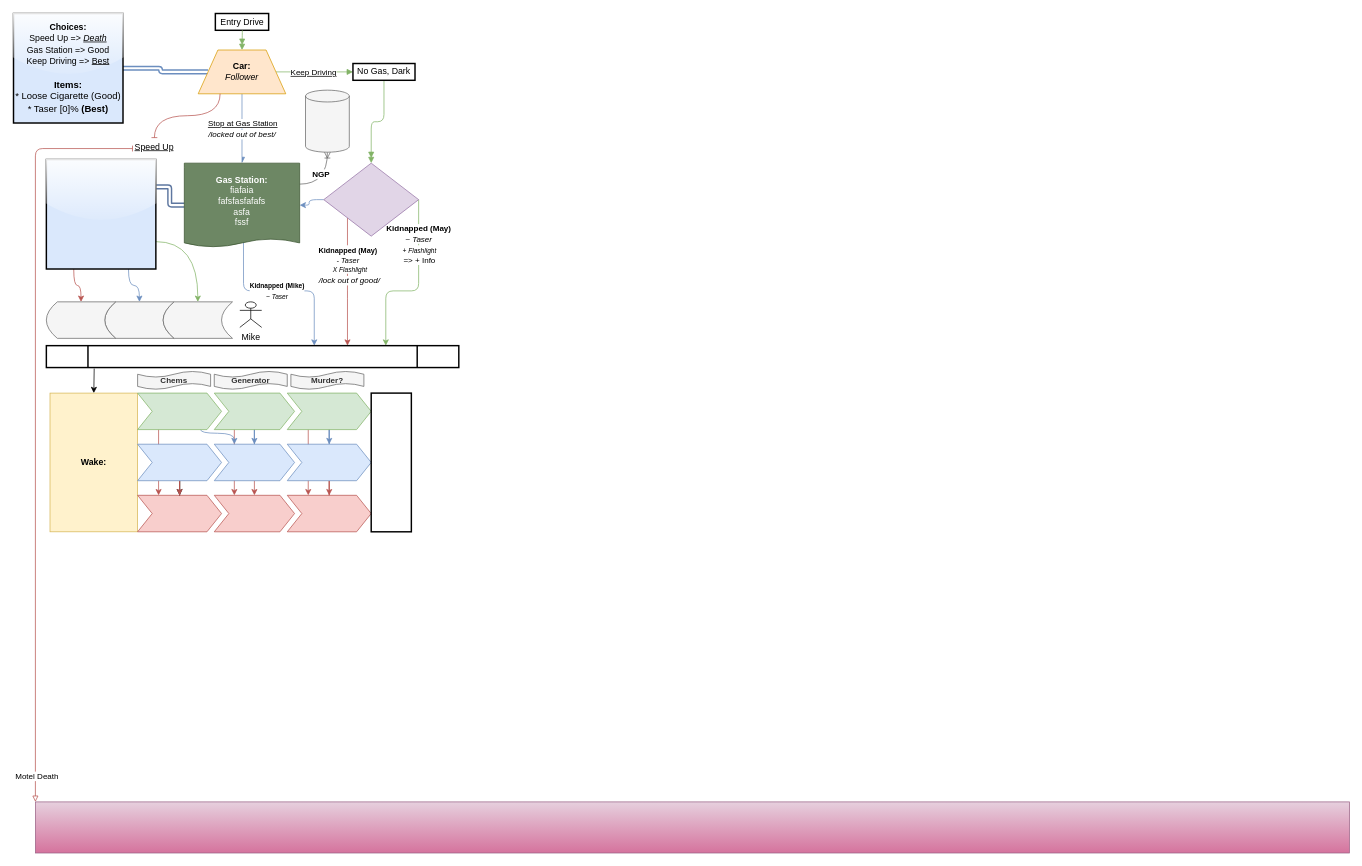
The diagram is 1362 pixels wide and 866 high, and some of its shapes have lost their labels. The shapes that lost their labels are listed below. From the top down, each one's box as (x1, y1, x2, y2) in pixels, then its label:
(305, 89, 349, 152): Safe: MK's Bday
(45, 158, 156, 269): Choices: ? ? ? ? Items: * Taser Battery [+40%] -
(45, 345, 459, 368): Transition to "The Siren Motel" (BGb)
(370, 392, 412, 532): Lobby:
(35, 801, 1349, 853): Death
